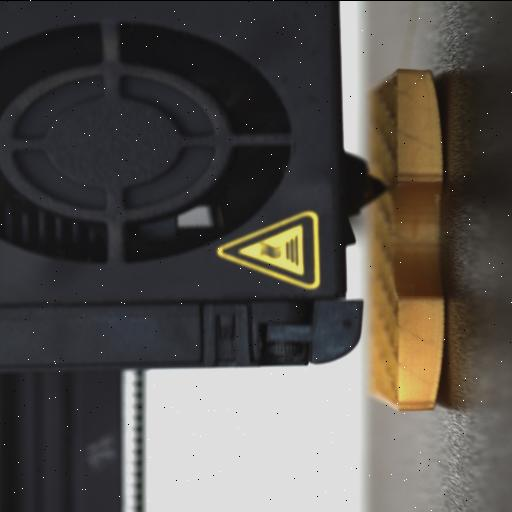warp: (420, 66, 450, 176), (424, 324, 448, 412)
